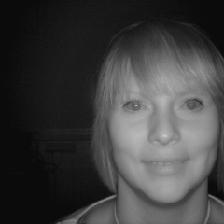happy: (86, 23, 224, 205)
